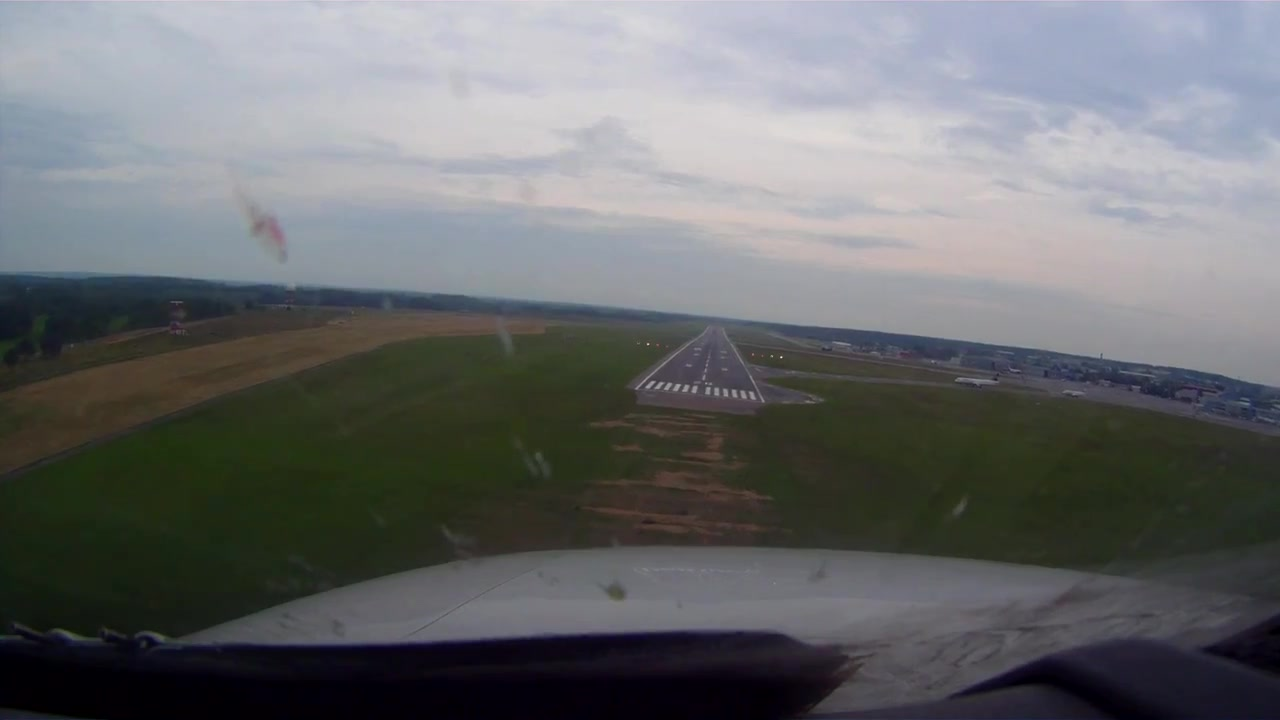entrance: (645, 380, 758, 400)
runway: (635, 325, 769, 406)
